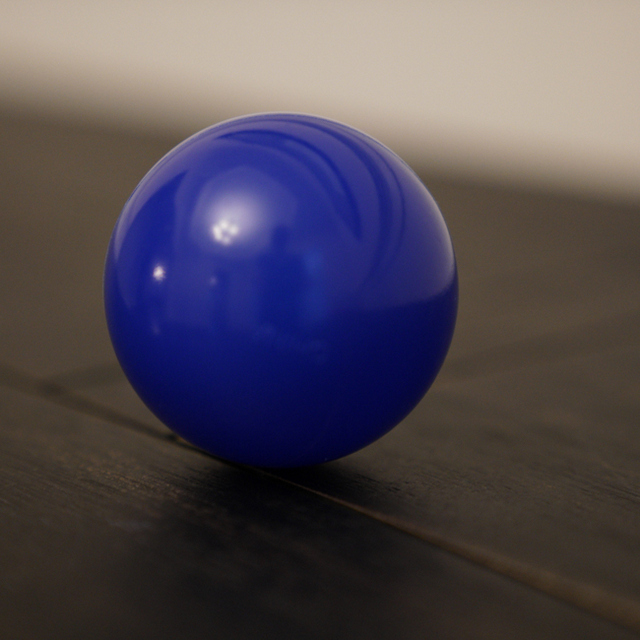Ball: (104, 113, 459, 460)
